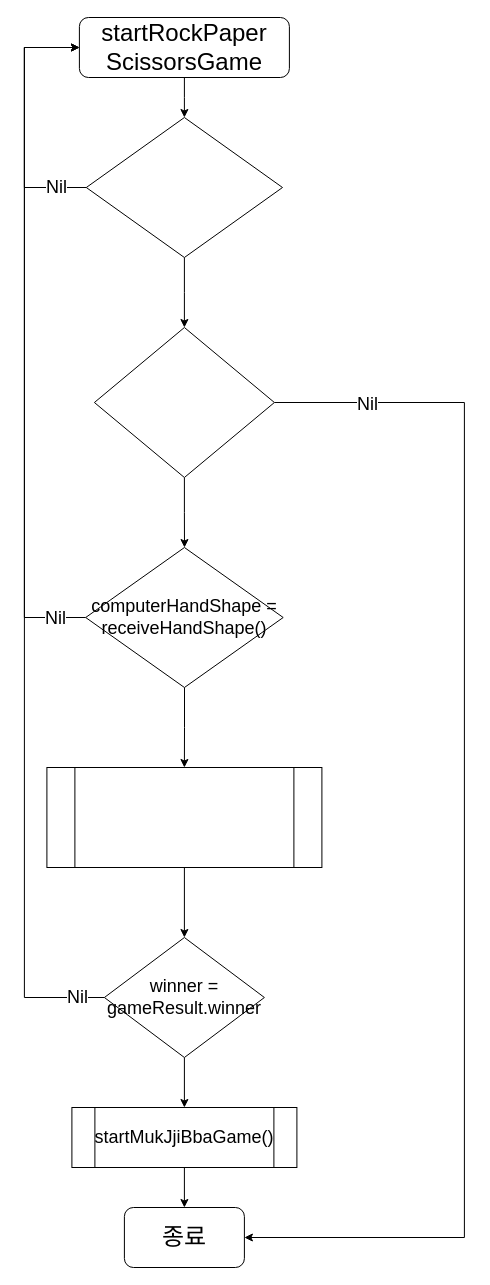
Image size: 490x1285. Some labels were removed from this diagram. The shapes that lost their labels are listed below. From the top down, each one's box as (x1, y1, x2, y2) in pixels, then its label:
(85, 116, 282, 258): menuNumber = receiveMenuNumber()
(93, 326, 274, 478): userHandShape = receiveHandShape()
(46, 766, 322, 868): gameResult = fetchRockPaper ScissorsGameResult()
